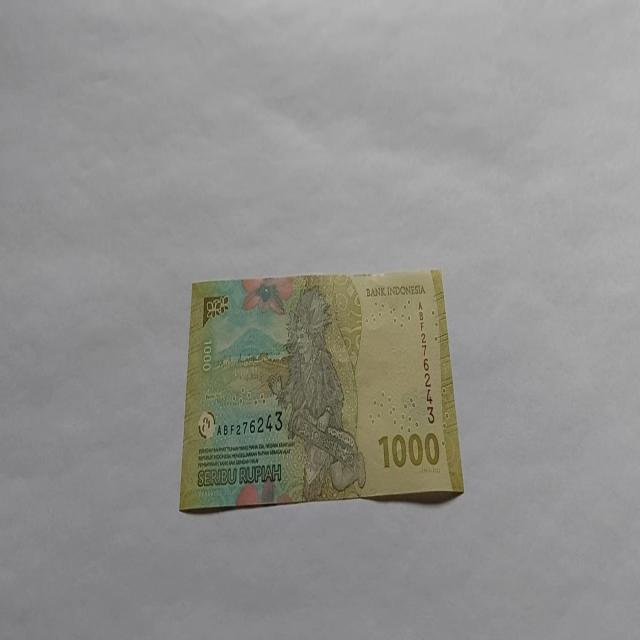seribu rupiah kertas: (178, 267, 464, 513)
